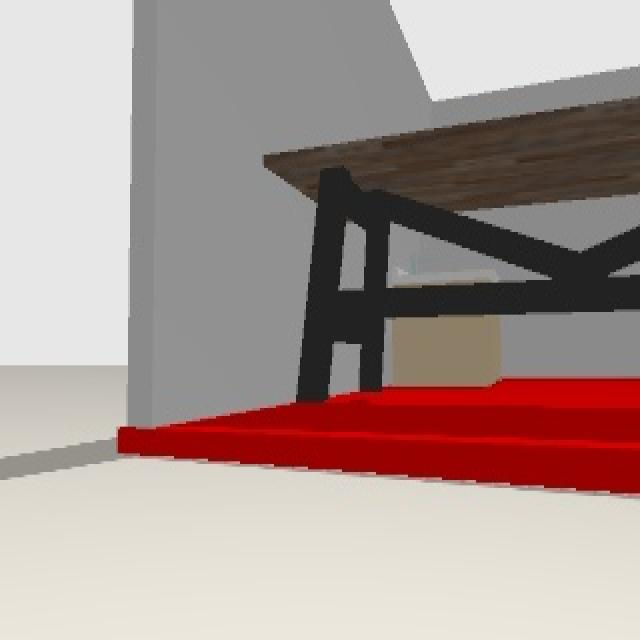dining: (263, 90, 640, 404)
